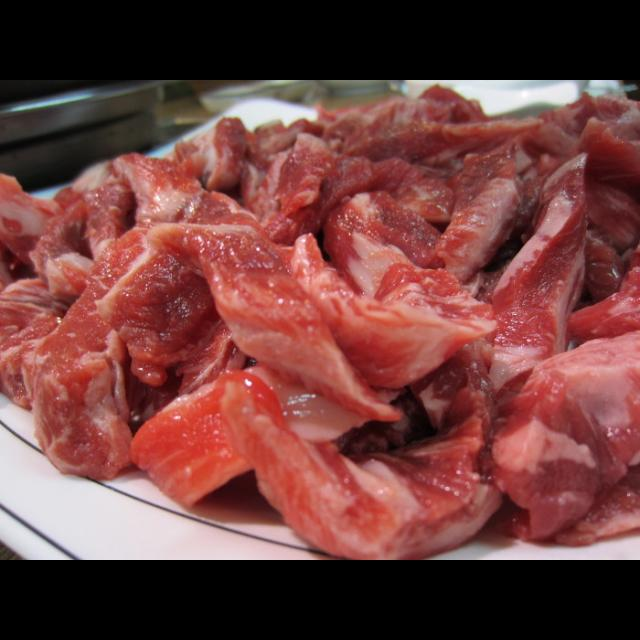beef: (155, 167, 501, 476)
